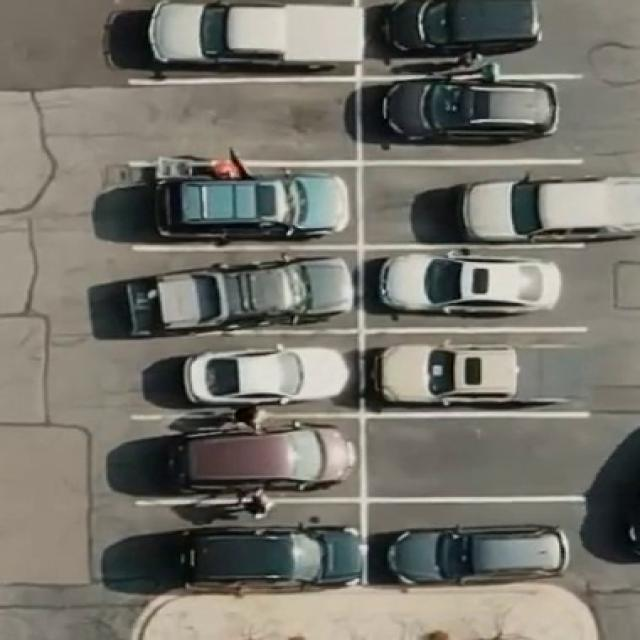empty: (131, 88, 347, 156), (371, 424, 578, 494)
notEmpty: (139, 510, 357, 588), (370, 168, 590, 243), (127, 0, 349, 74), (373, 511, 584, 587), (137, 423, 356, 496), (373, 337, 588, 411), (372, 254, 590, 326), (138, 254, 352, 327), (368, 84, 578, 158), (136, 171, 354, 242), (373, 0, 580, 74), (140, 342, 354, 409)
